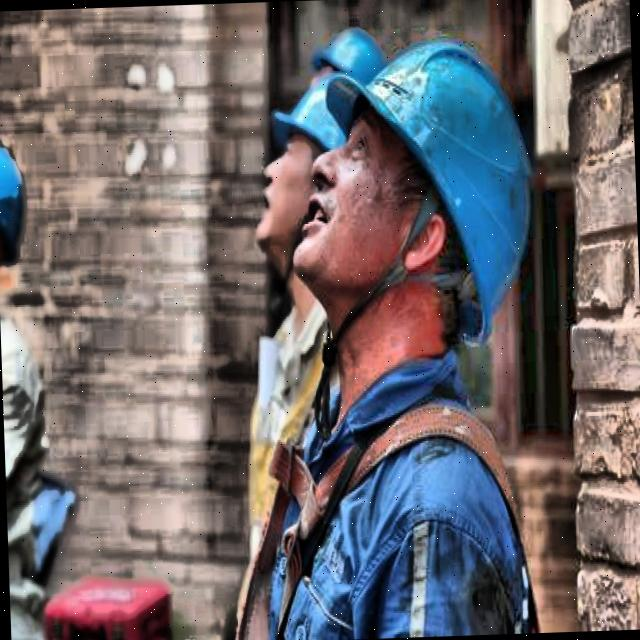helmet: (256, 11, 552, 404), (304, 7, 392, 137)
